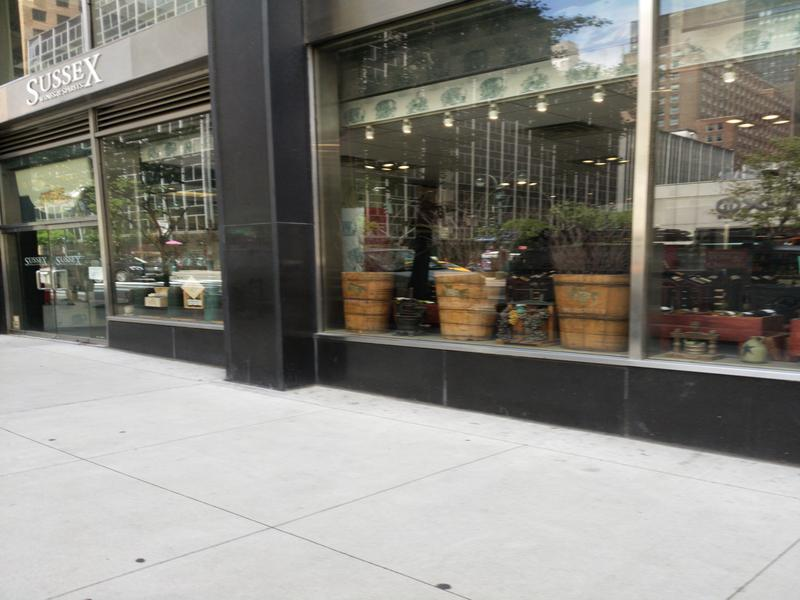double_door: (1, 219, 111, 349)
